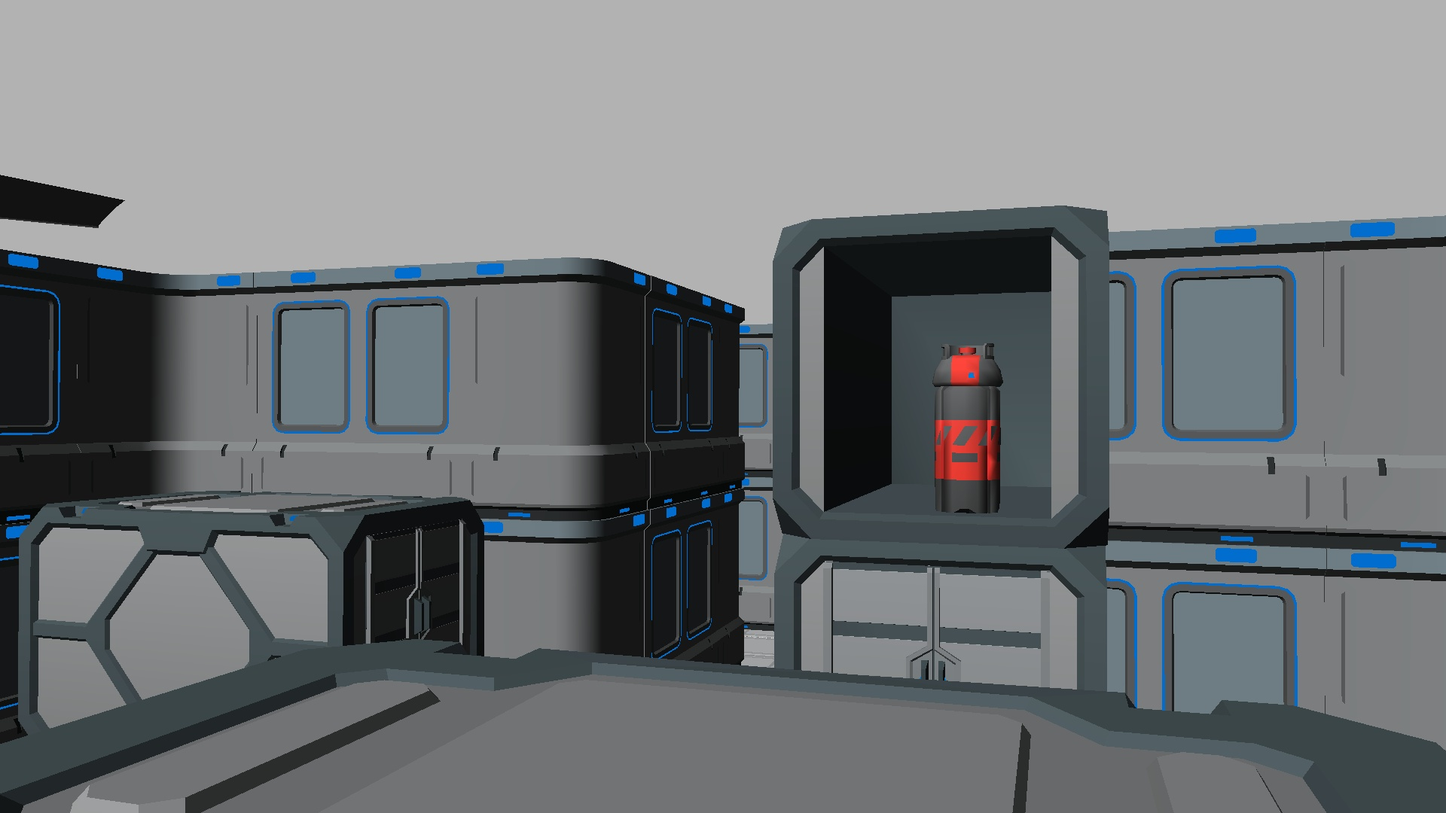red barrel: (932, 343, 1003, 513)
